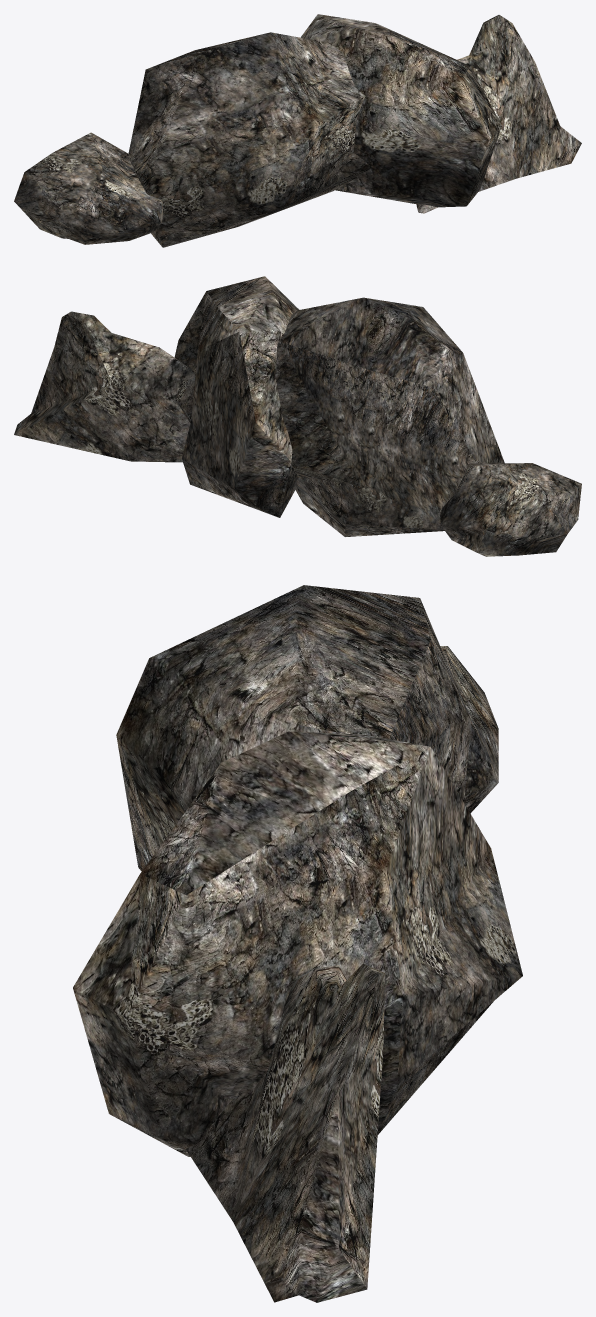
File: pir_m_prp_dvj_rockGroupBare_a.fbx
3 renders of one model, top to bottom at view 1: azimuth 30°, elevation 25°; view 2: azimuth 150°, elevation 25°; view 3: azimuth 270°, elevation 25°, orthographic. The views are drawn at different scales.
Visible parts, largest first — view 1: pasted__rock_2, pasted__rock_3, pasted__rock_1, pasted__rock_4; view 2: pasted__rock_2, pasted__rock_3, pasted__rock_4, pasted__rock_1; view 3: pasted__rock_3, pasted__rock_2, pasted__rock_4, pasted__rock_1.
Boxes of the visible parts, x1=… form: pasted__rock_2: x1=128, y1=32, x2=371, y2=247; pasted__rock_3: x1=301, y1=14, x2=501, y2=207; pasted__rock_1: x1=14, y1=132, x2=163, y2=244; pasted__rock_4: x1=416, y1=15, x2=581, y2=213; pasted__rock_2: x1=275, y1=297, x2=504, y2=536; pasted__rock_3: x1=174, y1=276, x2=299, y2=517; pasted__rock_4: x1=14, y1=311, x2=190, y2=462; pasted__rock_1: x1=439, y1=463, x2=581, y2=556; pasted__rock_3: x1=73, y1=731, x2=522, y2=1156; pasted__rock_2: x1=116, y1=585, x2=471, y2=871; pasted__rock_4: x1=186, y1=963, x2=385, y2=1302; pasted__rock_1: x1=440, y1=646, x2=498, y2=813.
Size of the model in its own units: 10110 by 3586 by 3667.
Materials: 1 (1 with a texture image).
